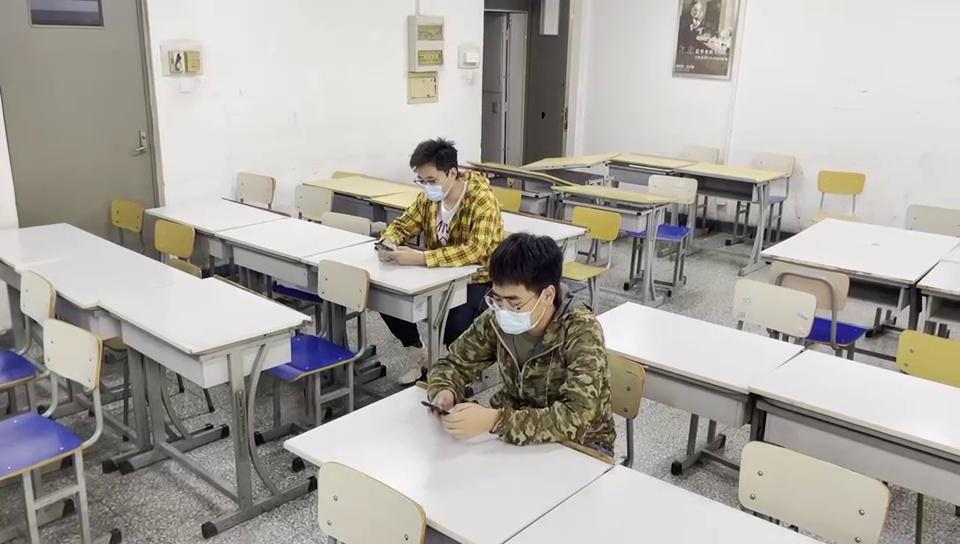phone: (425, 265, 607, 442), (377, 142, 483, 263)
